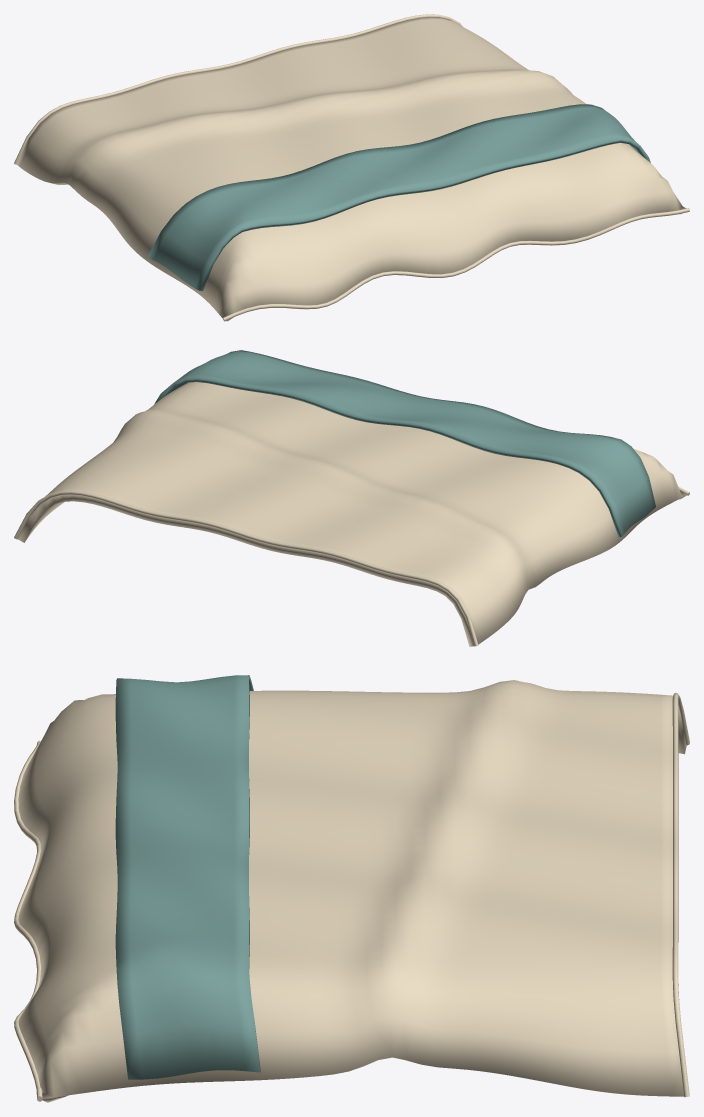
File: HotelH05_H06StyleBedding.fbx
The picture shows the model from 3 angles, top to bottom: view 1: azimuth 30°, elevation 25°; view 2: azimuth 150°, elevation 25°; view 3: azimuth 270°, elevation 25°; orthographic projection. The views are drawn at different scales.
Parts seen in each view (by area): view 1: Matched H06 | Lofted duvet with draped foot and side hems, Matched H06 | Folded slate bed runner, Matched H06 | Duvet bound hem.001, Matched H06 | Duvet bound hem; view 2: Matched H06 | Lofted duvet with draped foot and side hems, Matched H06 | Folded slate bed runner, Matched H06 | Duvet bound hem; view 3: Matched H06 | Lofted duvet with draped foot and side hems, Matched H06 | Folded slate bed runner, Matched H06 | Duvet bound hem, Matched H06 | Duvet bound hem.001.
Part boxes in pixels (left/top/right/bottom): Matched H06 | Lofted duvet with draped foot and side hems: left=16, top=17, right=686, bottom=321; Matched H06 | Folded slate bed runner: left=147, top=104, right=650, bottom=290; Matched H06 | Duvet bound hem.001: left=223, top=208, right=689, bottom=321; Matched H06 | Duvet bound hem: left=14, top=14, right=462, bottom=164; Matched H06 | Lofted duvet with draped foot and side hems: left=18, top=382, right=687, bottom=646; Matched H06 | Folded slate bed runner: left=154, top=350, right=655, bottom=537; Matched H06 | Duvet bound hem: left=14, top=490, right=478, bottom=646; Matched H06 | Lofted duvet with draped foot and side hems: left=18, top=680, right=686, bottom=1102; Matched H06 | Folded slate bed runner: left=115, top=675, right=260, bottom=1079; Matched H06 | Duvet bound hem: left=672, top=693, right=689, bottom=1097; Matched H06 | Duvet bound hem.001: left=14, top=740, right=42, bottom=1101.
Size of the model in its own units: 2.21 by 0.3483 by 1.76.
